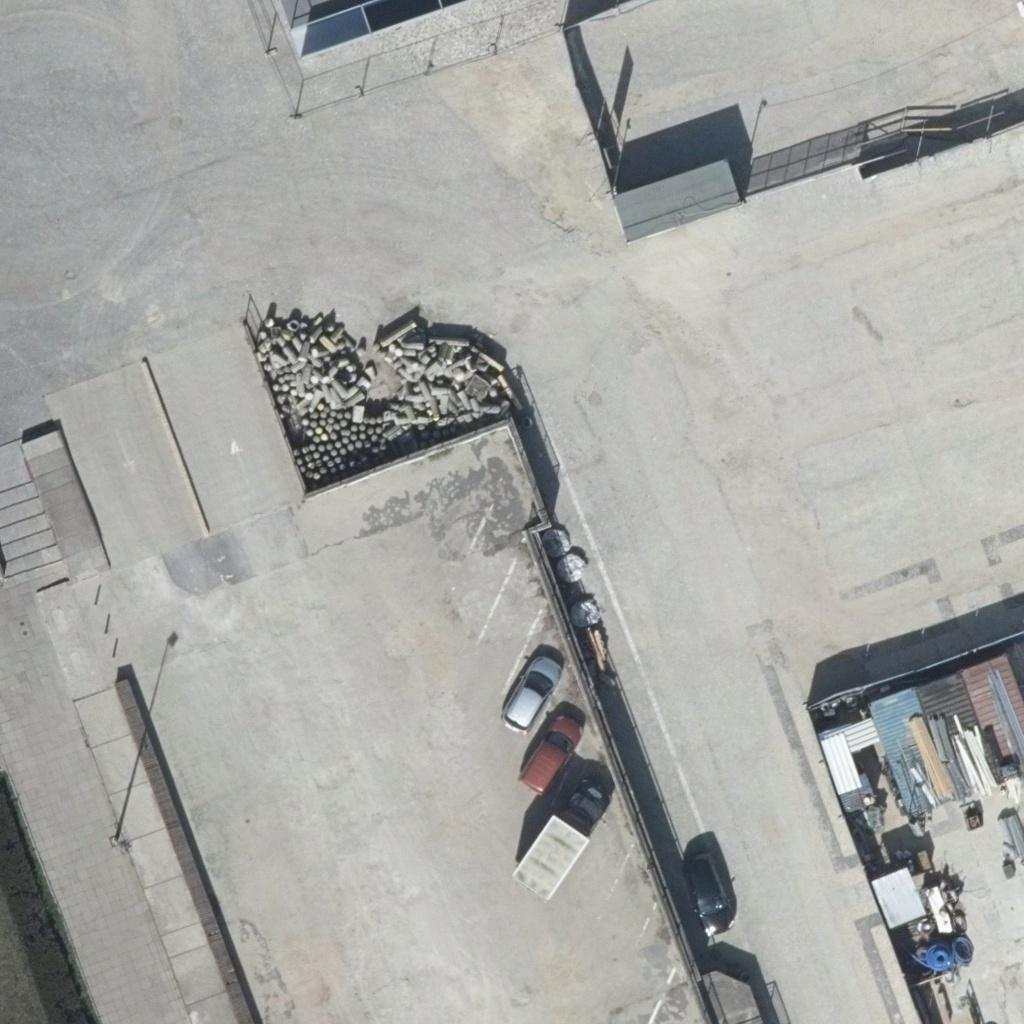samochod_osobowy: (520, 717, 581, 794), (504, 656, 560, 732), (685, 853, 733, 936), (563, 778, 609, 835)
